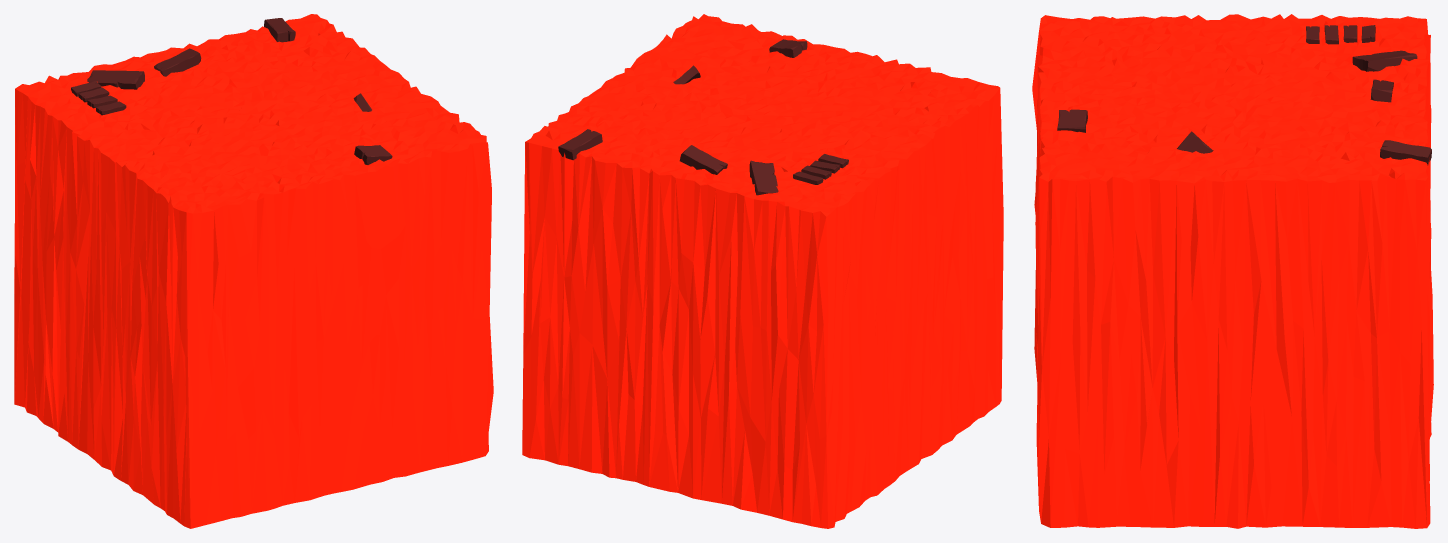
The model's file is Lava.fbx.
The picture shows the model from 3 angles, left to right: view 1: azimuth 30°, elevation 25°; view 2: azimuth 150°, elevation 25°; view 3: azimuth 270°, elevation 25°; orthographic projection. The views are drawn at different scales.
Visible parts, largest first — view 1: Plane.004; view 2: Plane.004; view 3: Plane.004.
Part boxes in pixels (x1,y1,x2,y2): Plane.004: [14, 14, 493, 528]; Plane.004: [522, 14, 1003, 528]; Plane.004: [1032, 14, 1433, 528].
Size of the model in its own units: 16.56 by 16.62 by 16.71.
